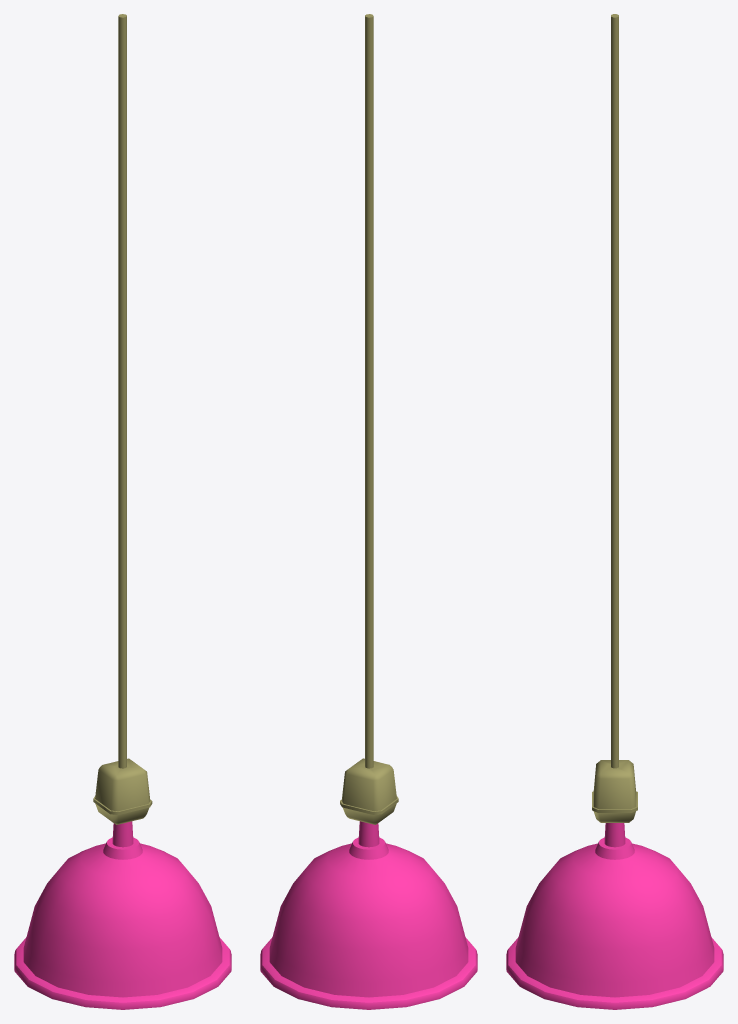
File: foco puerta (herejia).fbx
3 renders of one model, left to right at view 1: azimuth 30°, elevation 25°; view 2: azimuth 150°, elevation 25°; view 3: azimuth 270°, elevation 25°, orthographic.
Visible parts, largest first — view 1: Cylinder001, Box001; view 2: Cylinder001, Box001; view 3: Cylinder001, Box001.
Boxes of the visible parts, <box> form: Cylinder001: <box>14,821,231,1009</box>; Box001: <box>93,14,152,824</box>; Cylinder001: <box>260,821,477,1009</box>; Box001: <box>340,14,398,824</box>; Cylinder001: <box>506,823,723,1009</box>; Box001: <box>592,14,637,822</box>.
Bounding box in the file's own units: 7.65 × 36.32 × 7.54.
